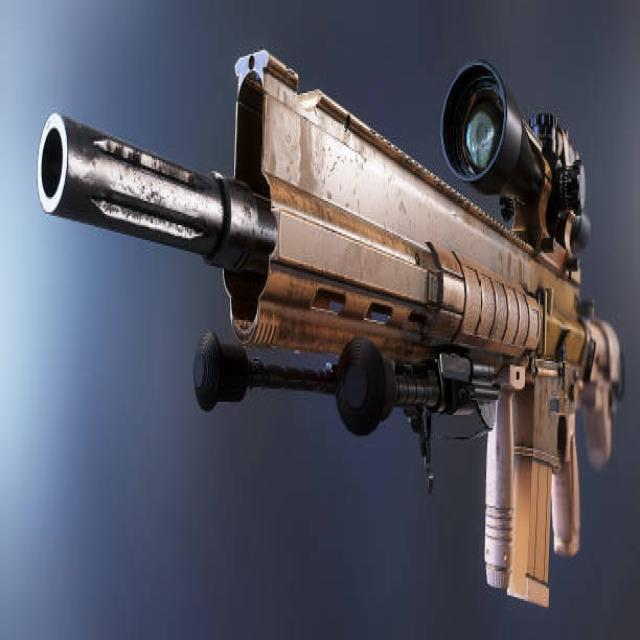rifle: (33, 31, 629, 619)
